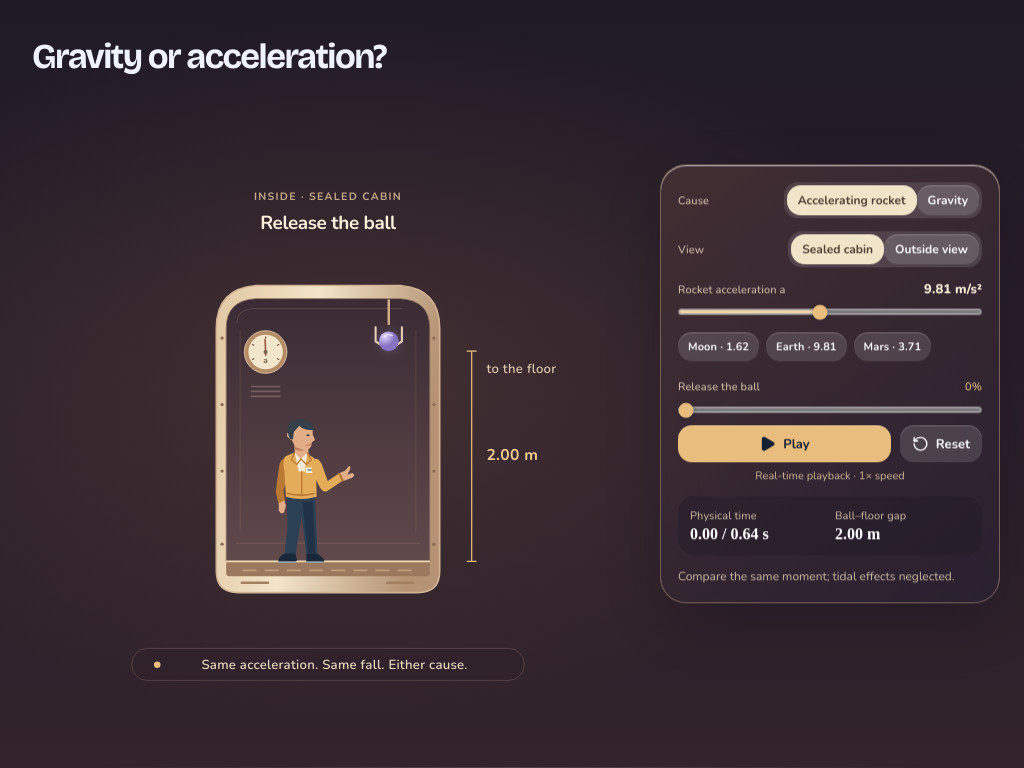
it: equivalence experiment › lands after about 0.64 real seconds on Earth while the Moon drop takes longer
Click the button "Play" at (784, 444), box [678,425,891,462]
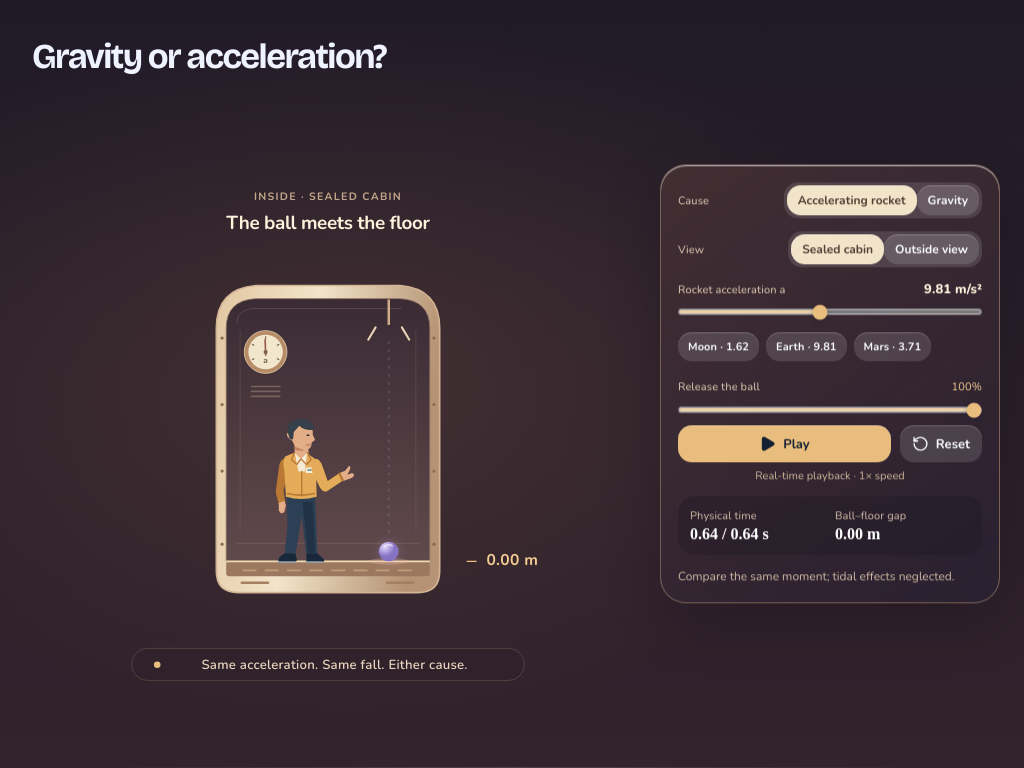
Expected: the slider named "Release the ball" holds "1", [678,407,982,412]
Click the button "Moon · 1.62" at (719, 347), box [678,332,759,361]
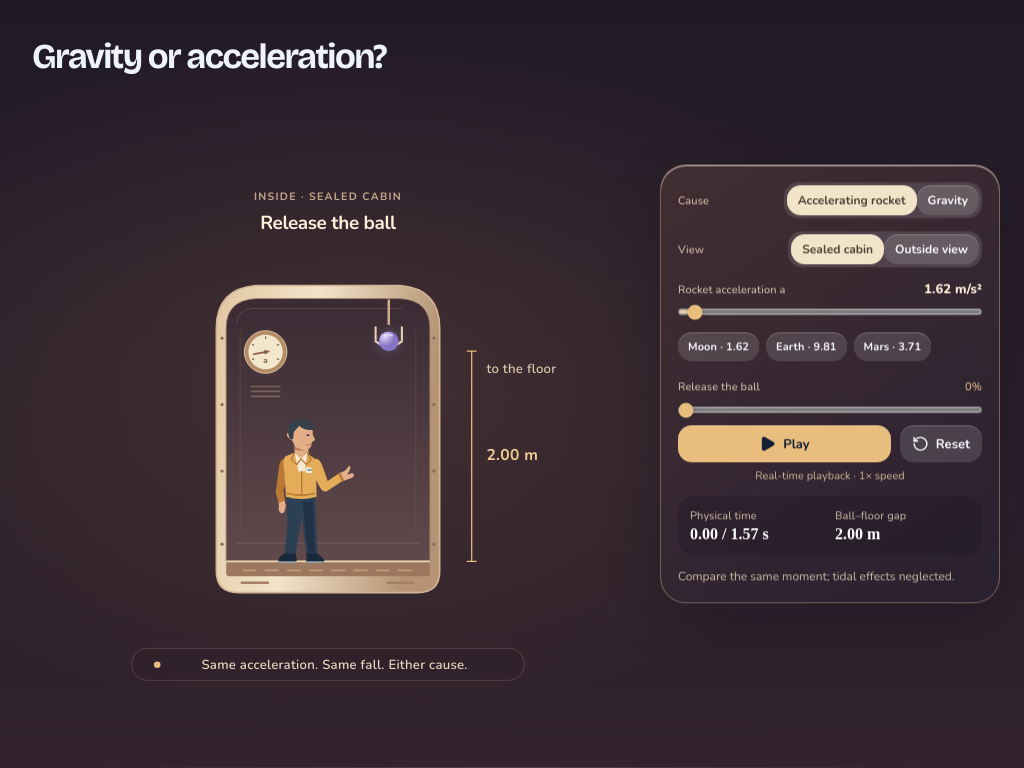
Click the button "Play" at (784, 444), box [678,425,891,462]
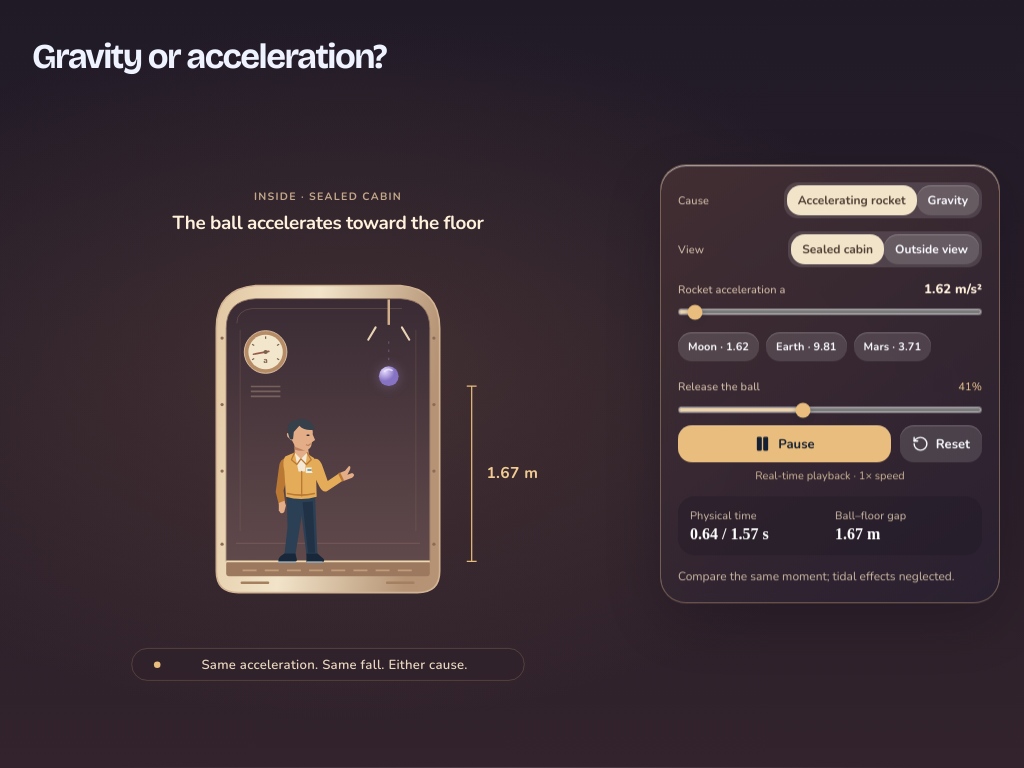
Expected: the text "0.64 / 1.57 s" is shown, [690,525,769,542]
